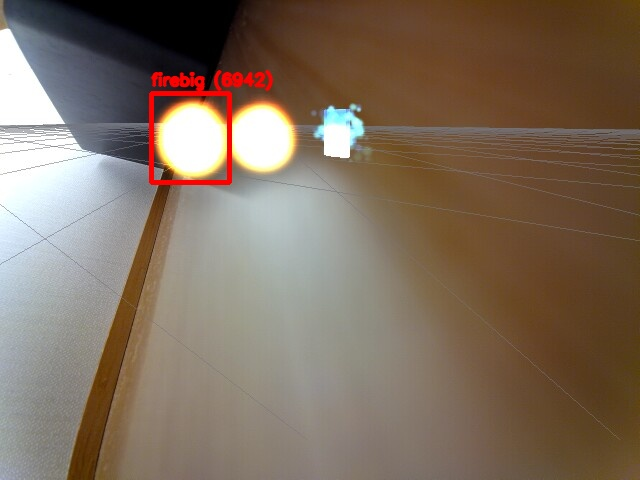firebig: (151, 93, 229, 182)
